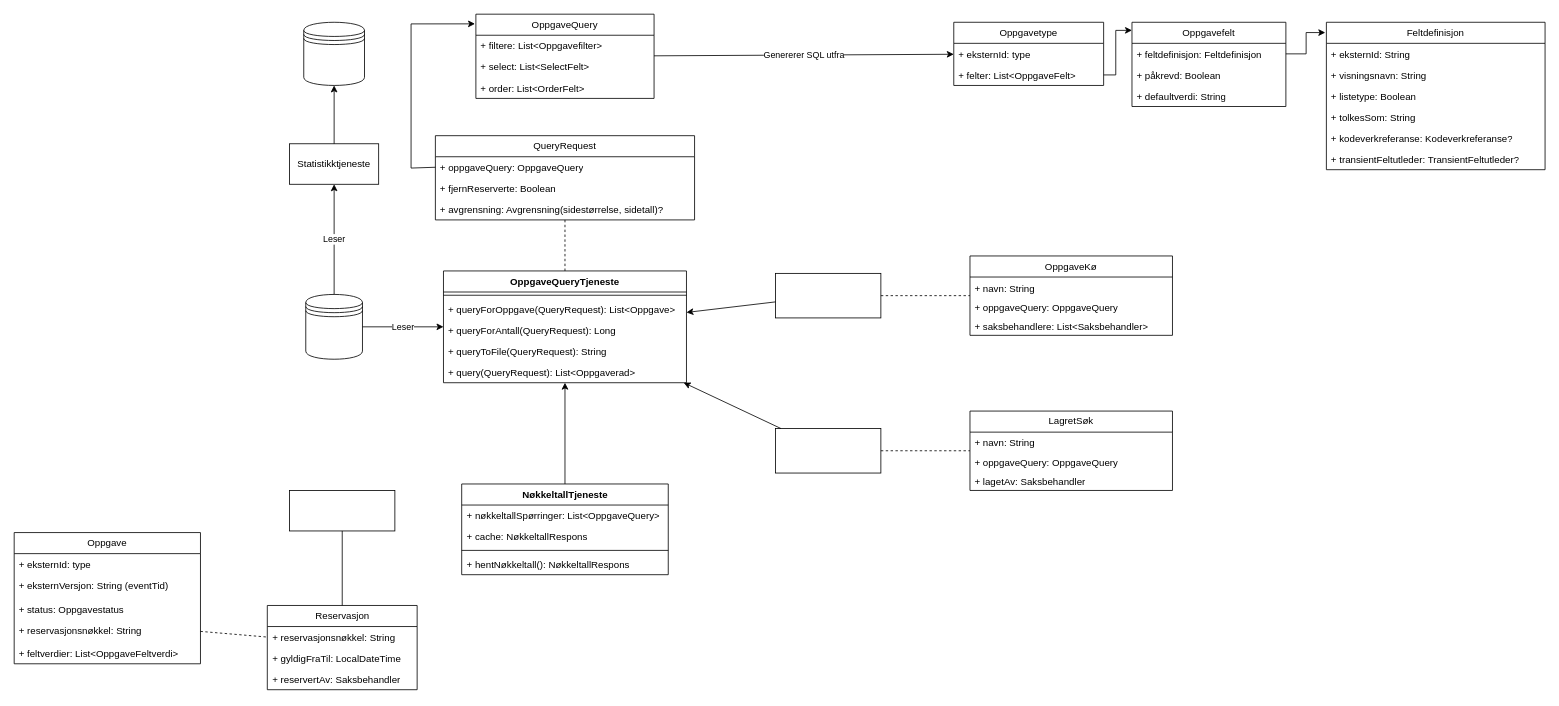
Some shapes in this 1559 by 706 pixel diagram are drawn without their labels. The shapes that lost their labels are listed below. From the top down, each one's centre as x and y in pixels, then its label:
the point at 333,53: Datavarehus
the point at 828,295: OppgaveKøTjeneste
the point at 333,326: Oppgave-modell
the point at 828,450: LagretSøkTjeneste
the point at 342,510: ReservasjonTjeneste
